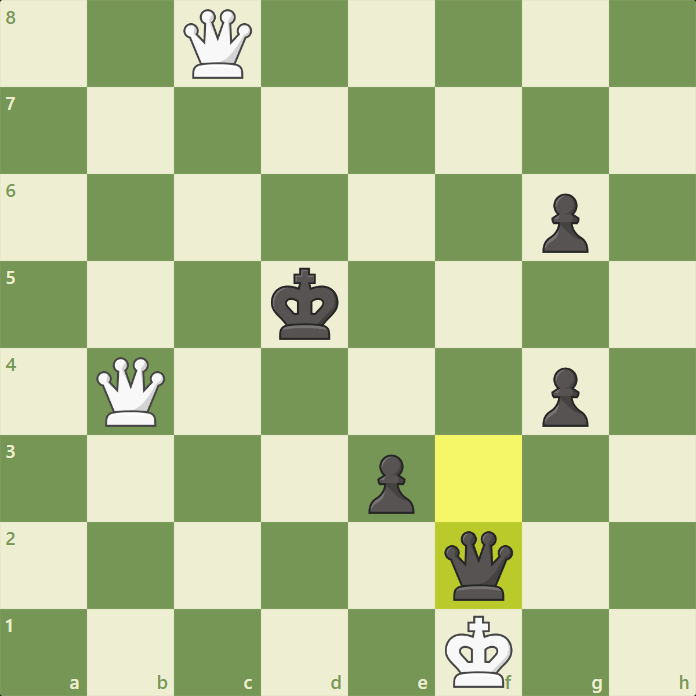K: (440, 614, 516, 690)
Q: (181, 6, 255, 82), (94, 355, 169, 429)
k: (268, 264, 341, 343)
p: (365, 452, 417, 517), (541, 191, 591, 256), (542, 366, 591, 430)
q: (443, 529, 516, 603)
